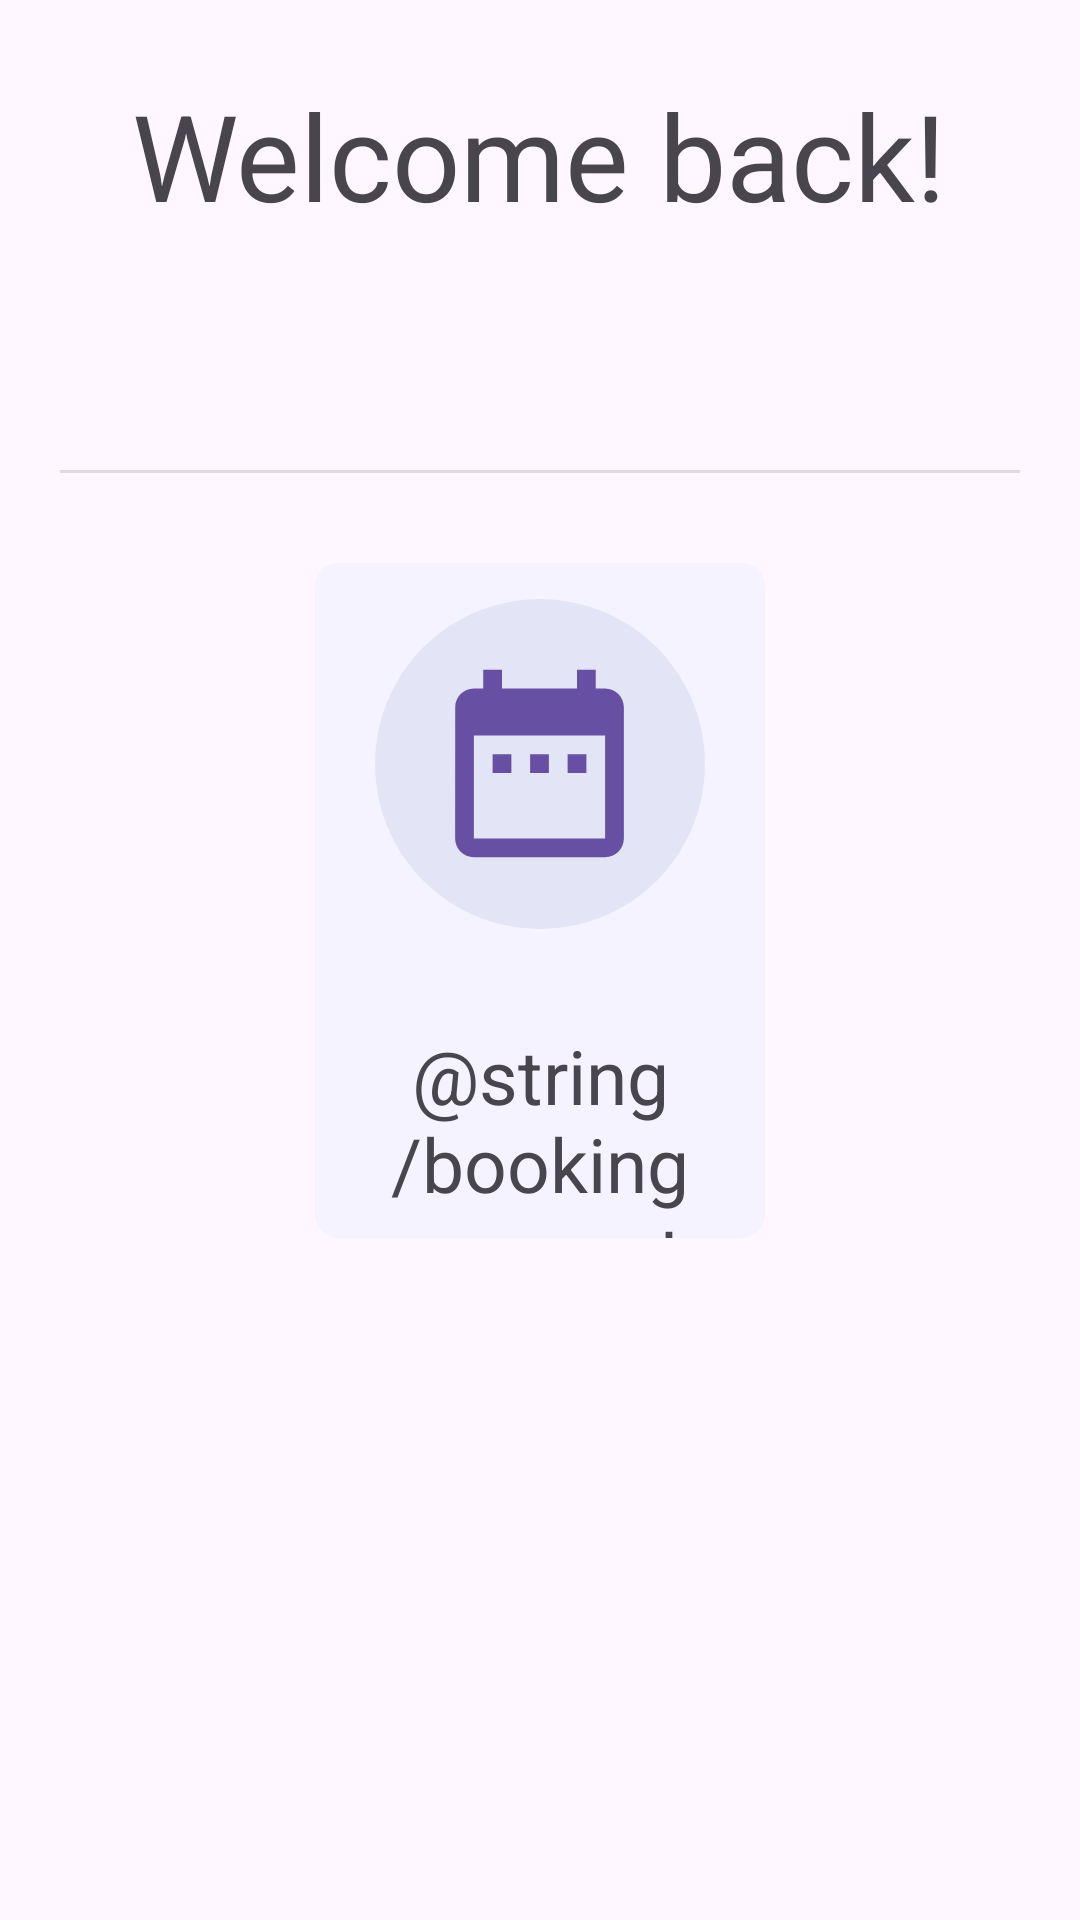

Where to tap for icons on this 1080x1920 app screen, as (x,y):
date surface tint: (539,763)
